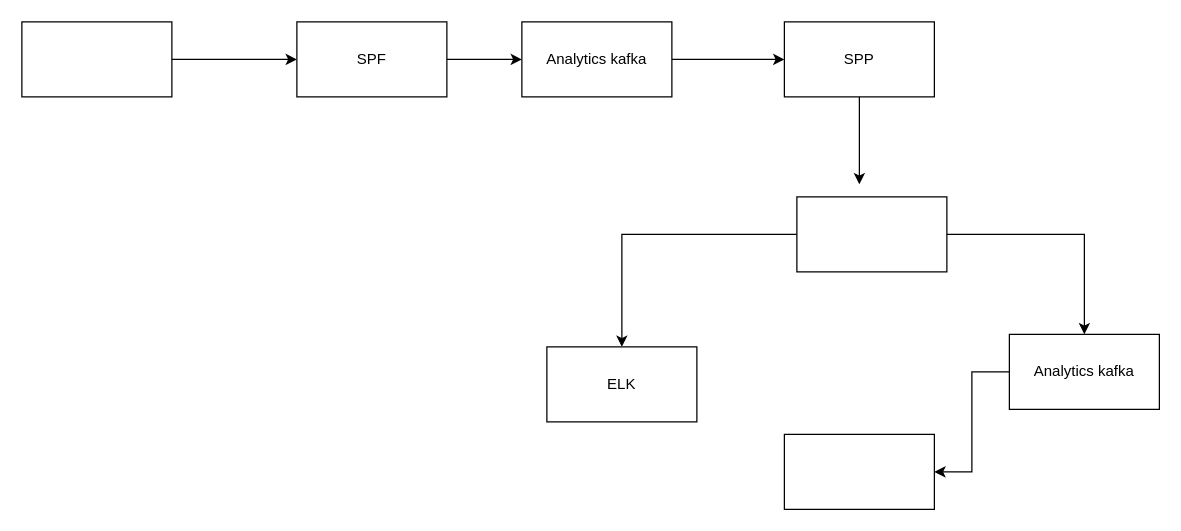
The diagram is 1181 pixels wide and 531 high, and some of its shapes have lost their labels. The shapes that lost their labels are listed below. From the top down, each one's box as (x1, y1, x2, y2) in pixels, then its label:
(21, 21, 172, 97): GTM
(796, 196, 947, 272): NIFI
(783, 433, 934, 509): Hadoop
